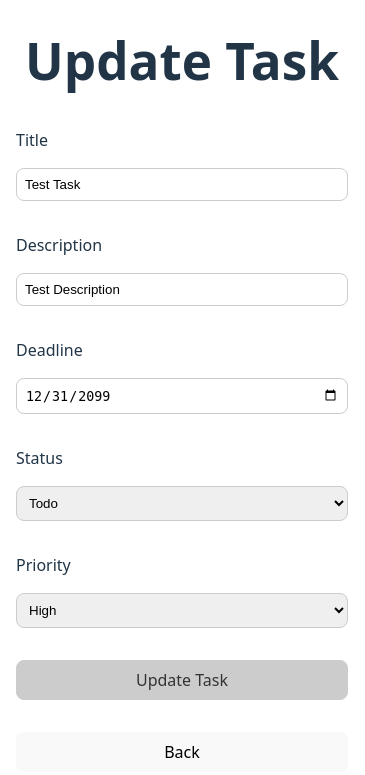
Test: UpdateTaskPage › should show the toast when the task is updated successfully
Replace the text in the field with placeholder "Title" with "Updated Task" at (182, 185), box [16, 168, 348, 202]
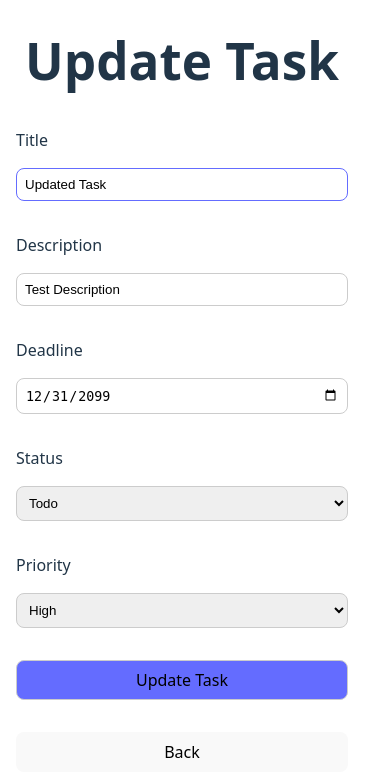
Click the button "Update Task" at (182, 680), box [16, 660, 348, 700]
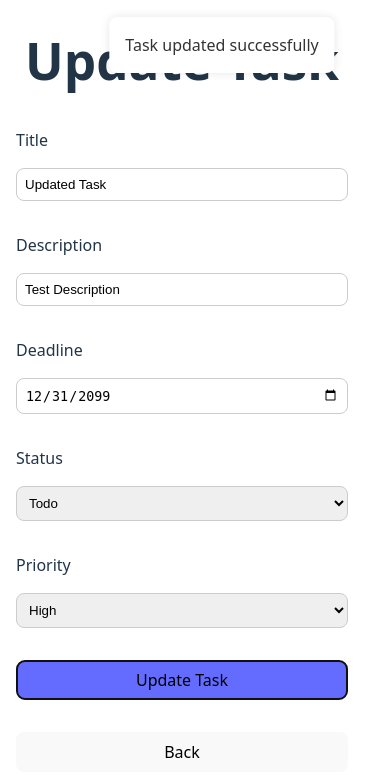
Check: the text "Task updated successfully" is shown, box [125, 33, 319, 57]
